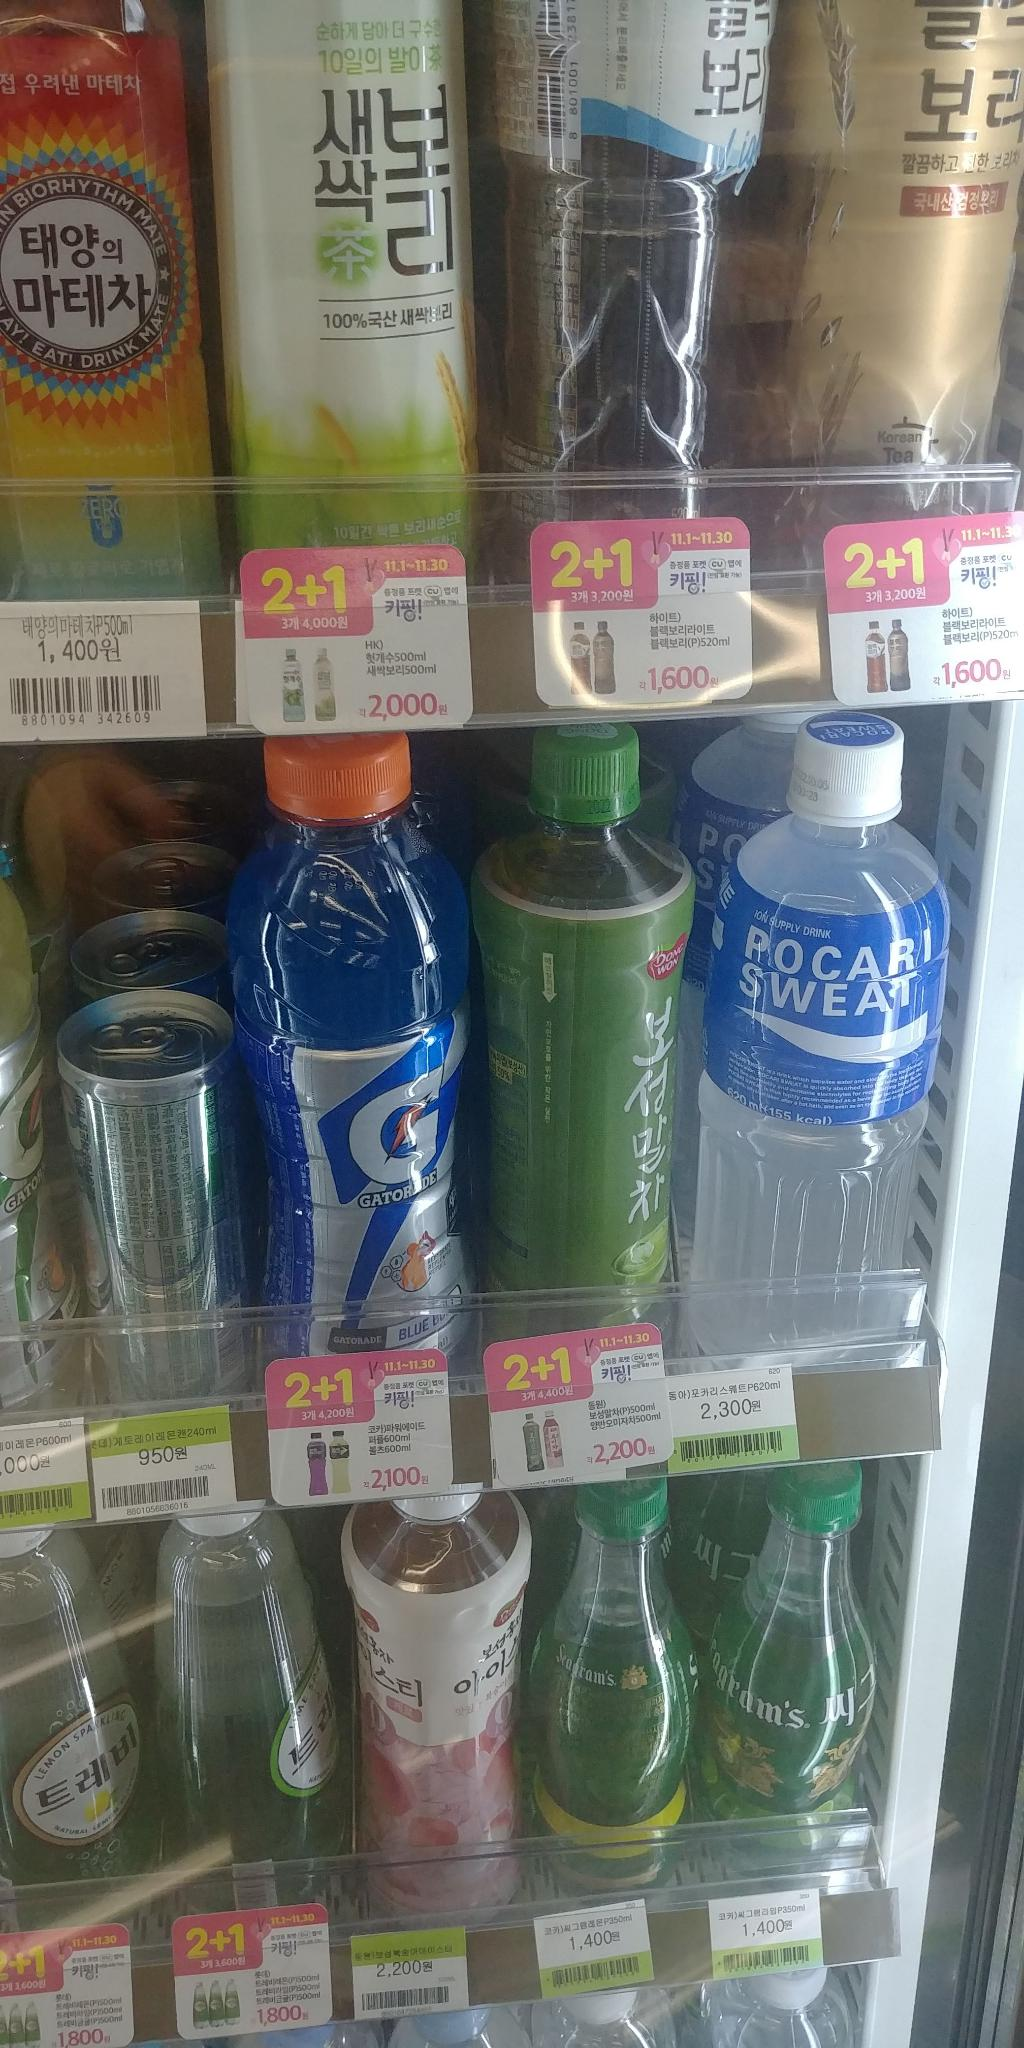pocarisweat: (700, 696, 963, 1408)
